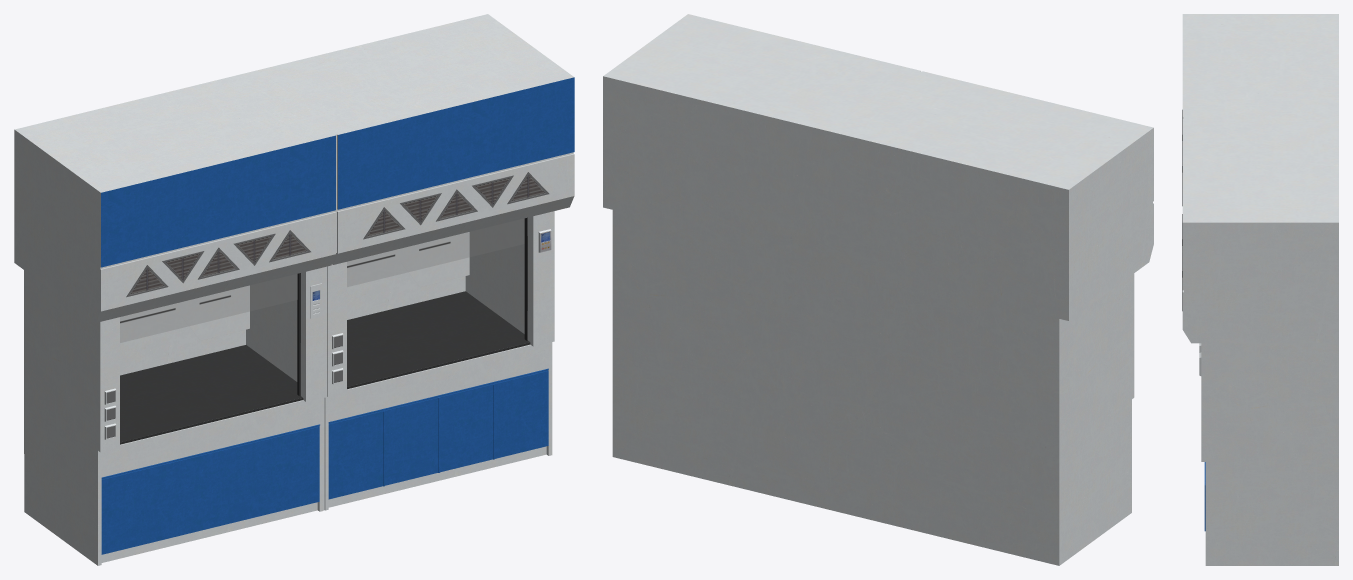
Rendered from SM_通风橱.FBX.
3 renders of one model, left to right at view 1: azimuth 30°, elevation 25°; view 2: azimuth 150°, elevation 25°; view 3: azimuth 270°, elevation 25°, orthographic. The views are drawn at different scales.
Parts seen in each view (by area): view 1: SM_通风橱; view 2: SM_通风橱; view 3: SM_通风橱.
Boxes of the visible parts, bbox=[...] form: SM_通风橱: bbox=[14, 14, 574, 565]; SM_通风橱: bbox=[603, 14, 1153, 565]; SM_通风橱: bbox=[1182, 14, 1338, 565].
Size of the model in its own units: 2604 by 2022 by 827.
